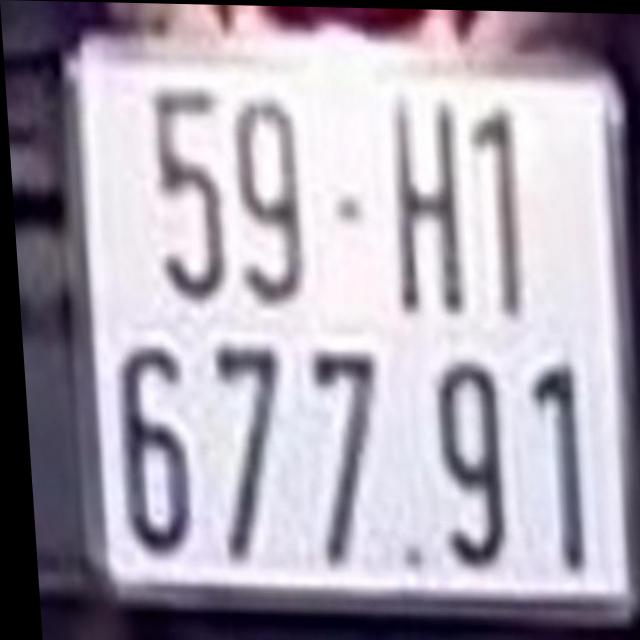1: (468, 104, 527, 318), (524, 362, 583, 564)
5: (148, 89, 222, 296)
6: (112, 350, 187, 549)
7: (207, 347, 285, 564), (304, 346, 379, 570)
9: (228, 96, 307, 307), (422, 358, 501, 565)
H: (390, 102, 464, 314)
